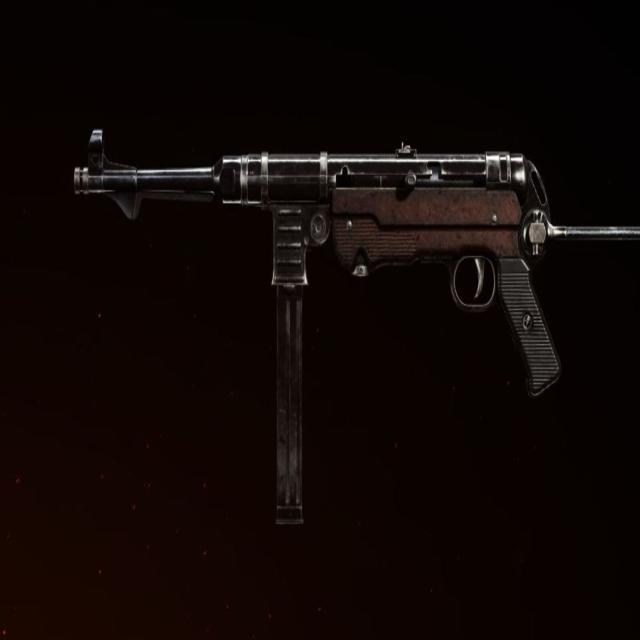SMG: (74, 129, 640, 529)
